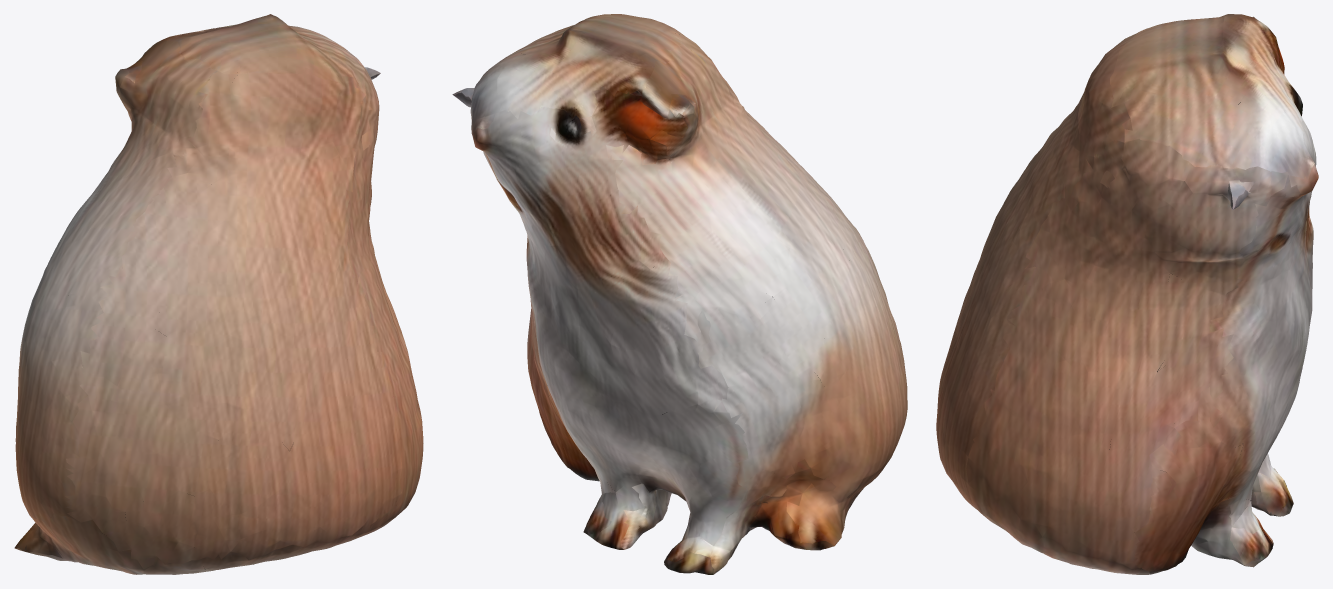
Rendered from 13_28_48_21_a-single-porcelain-guinea-pig-figurine-with-lifelike-glazed-coat.glb.
The picture shows the model from 3 angles, left to right: view 1: azimuth 30°, elevation 25°; view 2: azimuth 150°, elevation 25°; view 3: azimuth 270°, elevation 25°; orthographic projection. The views are drawn at different scales.
Visible parts, largest first — view 1: world; view 2: world; view 3: world.
Part boxes in pixels (box(x1,y1,x2,y2)): world: box(14, 14, 423, 574); world: box(452, 14, 907, 574); world: box(936, 14, 1318, 574).
Bounding box in the file's own units: 0.7187 × 0.8506 × 0.5549.
1 material, 1 textured.
